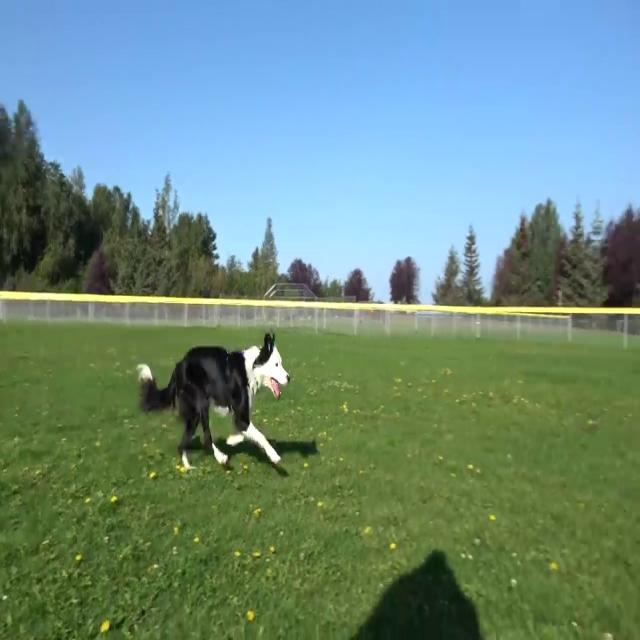Dog: (136, 330, 290, 473)
